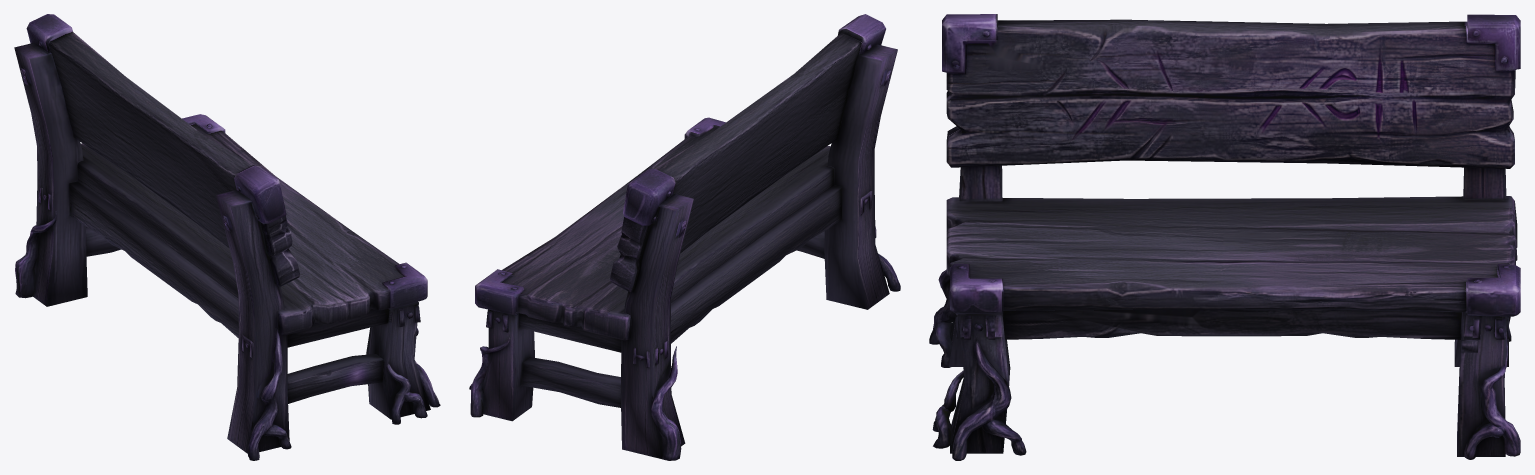
The model's file is bench.glb.
3 views of the same model, side by side, from view 1: azimuth 30°, elevation 25°; view 2: azimuth 150°, elevation 25°; view 3: azimuth 270°, elevation 25° (orthographic). The views are drawn at different scales.
Parts seen in each view (by area): view 1: tripo_node_19ab0c25-b7ea-4191-80be-53ccb76378f3; view 2: tripo_node_19ab0c25-b7ea-4191-80be-53ccb76378f3; view 3: tripo_node_19ab0c25-b7ea-4191-80be-53ccb76378f3.
Part boxes in pixels (x1,y1,x2,y2): tripo_node_19ab0c25-b7ea-4191-80be-53ccb76378f3: [14, 14, 440, 460]; tripo_node_19ab0c25-b7ea-4191-80be-53ccb76378f3: [469, 14, 900, 460]; tripo_node_19ab0c25-b7ea-4191-80be-53ccb76378f3: [929, 14, 1520, 460].
Bounding box in the file's own units: 0.5059 × 0.6309 × 0.998.
1 material, 1 textured.
